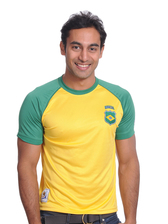clothoes: (17, 73, 139, 219)
